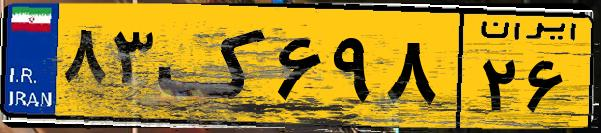2: (475, 38, 525, 113)
3: (110, 28, 158, 98)
6: (270, 28, 330, 110), (525, 38, 570, 115)
8: (385, 28, 445, 110), (57, 26, 110, 100)
9: (330, 28, 385, 110)
ک: (158, 12, 270, 120)
